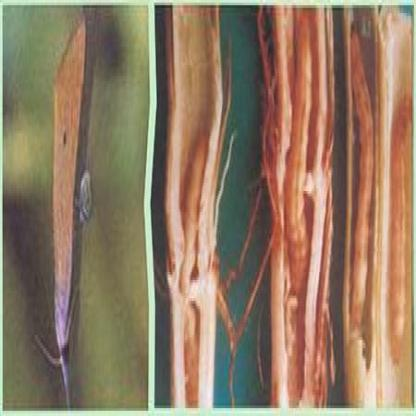stem-borer: (50, 14, 80, 408)
